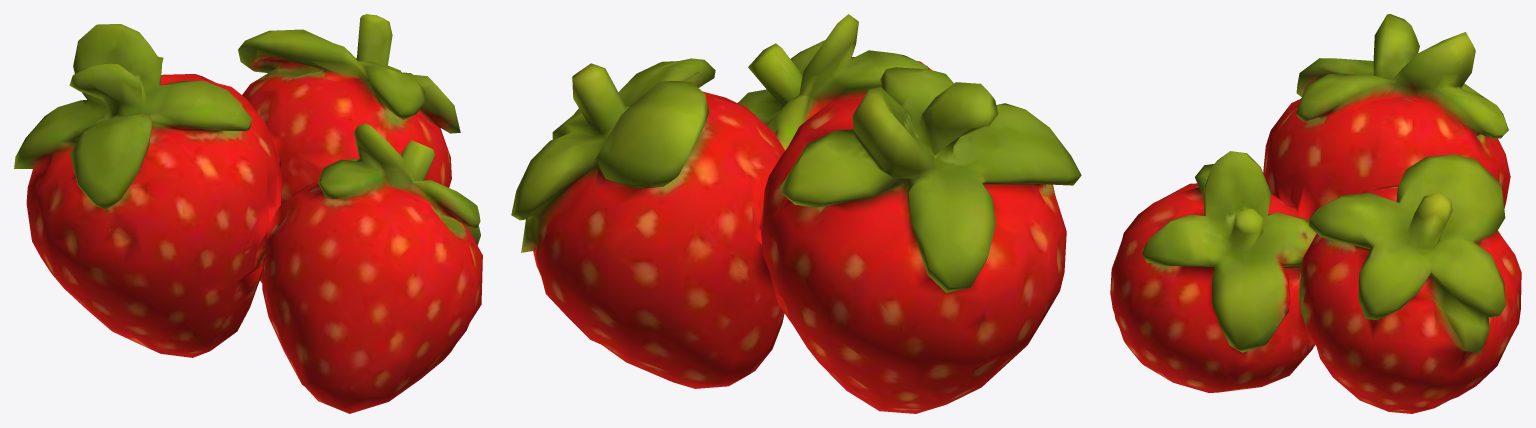
3 views of the same model, side by side, from view 1: azimuth 30°, elevation 25°; view 2: azimuth 150°, elevation 25°; view 3: azimuth 270°, elevation 25° (orthographic). The views are drawn at different scales.
Visible parts, largest first — view 1: strawberry; view 2: strawberry; view 3: strawberry.
Part boxes in pixels (box(x1,y1,x2,y2)): strawberry: box(14, 14, 482, 413); strawberry: box(511, 14, 1081, 413); strawberry: box(1110, 14, 1521, 413).
Size of the model in its own units: 0.14 by 0.0983 by 0.1264.
Materials: 1 (1 with a texture image).
